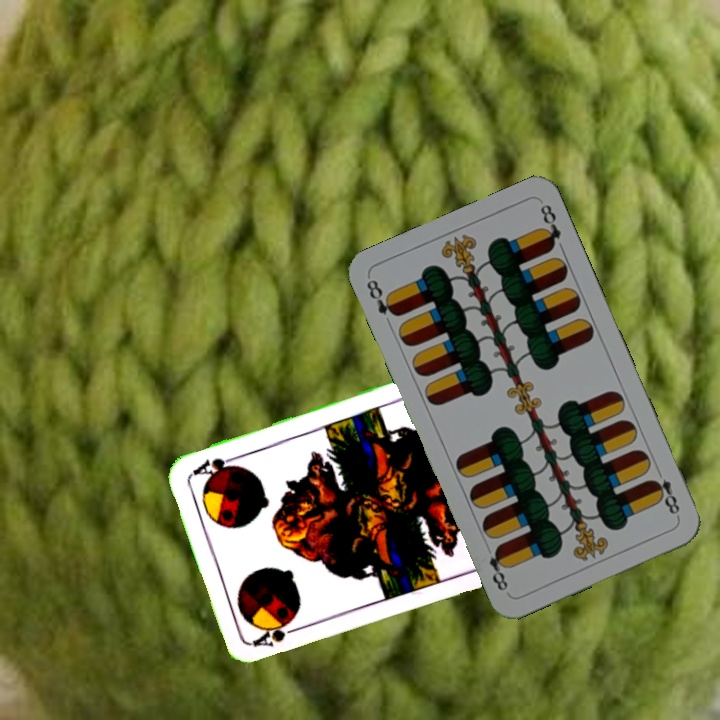E8: (647, 464, 683, 521), (362, 275, 402, 319)
SA: (249, 619, 307, 650)
